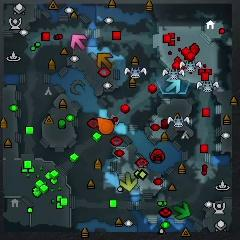p5: (97, 117, 114, 135)
x1: (71, 34, 87, 50)
x2: (119, 173, 137, 191)
x3: (166, 77, 181, 94)
x4: (173, 202, 190, 219)
x5: (97, 53, 113, 69)
